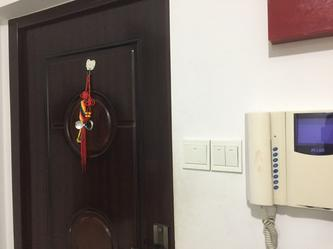switch: (183, 142, 209, 166), (212, 142, 228, 167), (224, 144, 240, 168)
